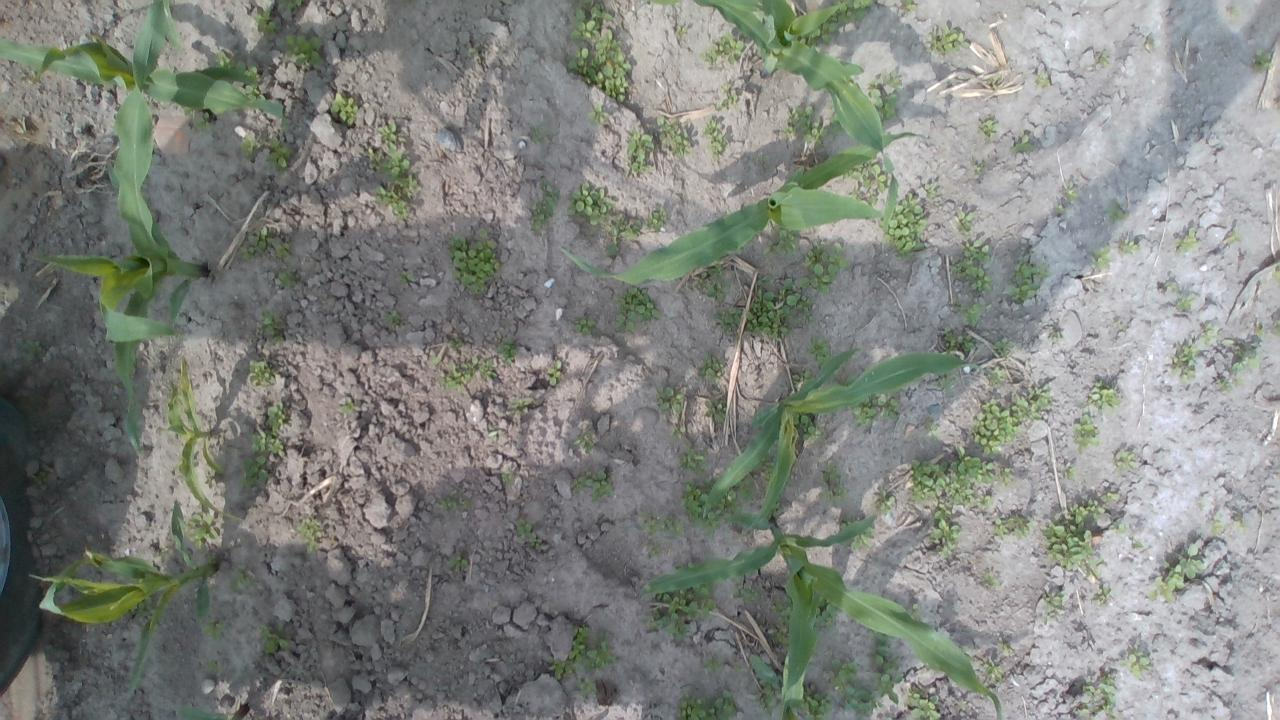Maize: (32, 0, 206, 461), (644, 510, 1004, 720), (645, 0, 901, 233), (560, 127, 927, 282), (701, 349, 982, 530), (29, 498, 219, 690), (0, 36, 287, 119), (165, 355, 242, 525), (173, 702, 232, 720)
Weeds: (564, 0, 633, 104), (911, 447, 1013, 511), (970, 384, 1052, 456), (1038, 492, 1114, 569), (366, 122, 418, 218), (680, 472, 755, 536), (744, 272, 816, 338), (642, 580, 718, 642), (446, 226, 500, 294), (547, 628, 616, 680), (1150, 542, 1206, 603), (879, 194, 930, 257), (806, 0, 872, 47), (210, 49, 266, 101), (866, 628, 902, 706), (798, 238, 848, 294), (829, 657, 874, 716), (951, 238, 994, 294), (239, 430, 282, 486), (1072, 672, 1120, 720), (843, 156, 888, 207), (566, 180, 614, 226), (612, 286, 656, 336), (1006, 260, 1050, 304), (442, 355, 496, 390), (866, 70, 902, 122), (677, 690, 738, 720), (784, 104, 826, 147), (528, 178, 560, 232), (851, 392, 901, 426), (690, 260, 730, 302), (930, 511, 961, 563), (656, 114, 691, 158), (183, 511, 221, 551), (700, 31, 744, 65), (608, 214, 642, 258), (768, 594, 794, 650), (926, 22, 970, 55), (284, 32, 326, 66), (816, 461, 850, 503), (572, 470, 616, 502), (1223, 336, 1264, 370), (638, 509, 686, 538), (233, 224, 269, 262), (626, 129, 656, 174), (1070, 413, 1101, 455), (837, 516, 875, 550), (800, 682, 832, 720), (1169, 343, 1200, 382), (1082, 380, 1120, 411), (256, 308, 286, 347), (906, 687, 940, 720), (702, 118, 728, 160), (712, 305, 744, 338), (1116, 651, 1152, 680), (258, 622, 290, 654), (226, 560, 258, 592), (329, 93, 358, 128), (993, 513, 1030, 540), (792, 411, 824, 442), (811, 596, 840, 630), (654, 386, 686, 416), (295, 516, 321, 552), (247, 358, 278, 388), (266, 138, 295, 170), (250, 7, 278, 40), (942, 326, 975, 354), (698, 350, 726, 382), (764, 229, 796, 257), (959, 301, 991, 328), (132, 591, 160, 621), (236, 130, 262, 160), (494, 334, 518, 366), (515, 517, 541, 546), (1042, 591, 1064, 622), (1175, 228, 1201, 254), (677, 448, 705, 472), (806, 337, 830, 365), (266, 399, 287, 430), (201, 617, 226, 643), (706, 399, 730, 426), (583, 102, 609, 126), (644, 206, 668, 232), (1250, 48, 1276, 72), (982, 657, 1006, 682), (758, 455, 779, 483), (1092, 244, 1116, 268), (758, 682, 776, 714), (953, 208, 975, 234), (717, 82, 736, 111), (1176, 290, 1201, 312), (1110, 448, 1136, 469), (1215, 376, 1248, 392), (874, 489, 896, 513), (18, 338, 42, 360), (828, 112, 849, 137), (734, 582, 760, 602), (791, 369, 814, 391), (1205, 509, 1225, 534), (977, 117, 999, 139), (991, 337, 1014, 358), (383, 308, 405, 329), (1198, 322, 1218, 345), (574, 677, 598, 696), (1108, 202, 1129, 223), (276, 270, 298, 290), (546, 359, 562, 386), (573, 430, 594, 450), (986, 367, 1008, 386), (446, 553, 469, 571), (202, 657, 225, 674), (438, 494, 464, 509), (1012, 133, 1032, 152), (277, 0, 304, 14), (1118, 238, 1140, 255), (674, 559, 700, 573), (574, 316, 594, 334), (193, 112, 214, 129), (1036, 71, 1054, 90), (982, 572, 1002, 588), (906, 602, 922, 622), (1092, 586, 1110, 603), (1110, 516, 1126, 535), (272, 241, 292, 256), (938, 371, 953, 391), (646, 541, 661, 561), (706, 655, 721, 675), (1095, 52, 1112, 68), (1232, 516, 1248, 532), (158, 545, 170, 566), (339, 399, 354, 415), (998, 642, 1014, 657), (1226, 7, 1241, 22), (1065, 186, 1079, 202), (1064, 464, 1078, 480), (509, 399, 530, 409), (400, 270, 416, 283), (532, 127, 544, 144), (674, 24, 688, 38), (446, 338, 464, 348), (902, 0, 918, 11), (1230, 229, 1242, 243), (924, 185, 936, 199), (500, 471, 514, 483), (1162, 278, 1178, 288), (973, 162, 986, 174), (466, 47, 481, 57), (1273, 318, 1280, 339), (1054, 202, 1066, 214), (1132, 539, 1144, 551), (672, 429, 686, 439), (926, 418, 936, 432), (1274, 263, 1280, 283), (1256, 324, 1266, 336), (206, 554, 217, 564), (1048, 334, 1058, 343), (432, 356, 438, 363)
